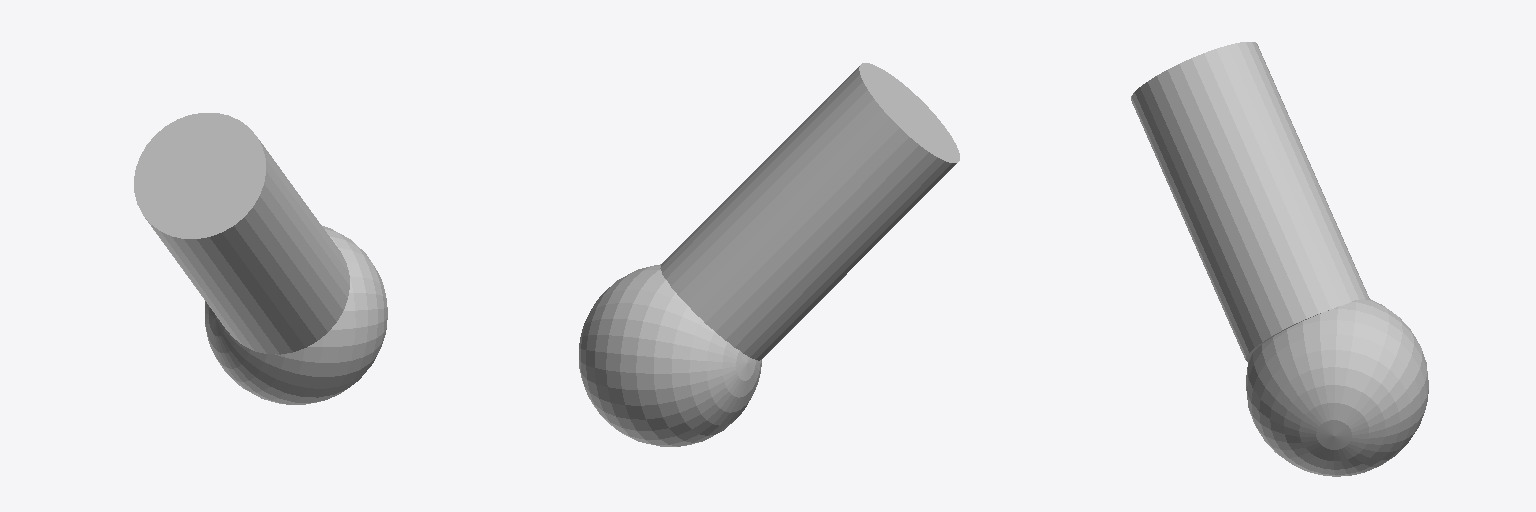
Rendered from rightArm.obj.
3 views of the same model, side by side, from view 1: azimuth 30°, elevation 25°; view 2: azimuth 150°, elevation 25°; view 3: azimuth 270°, elevation 25° (orthographic).
Parts seen in each view (by area): view 1: rightArm_ArmLeftUp.001; view 2: rightArm_ArmLeftUp.001; view 3: rightArm_ArmLeftUp.001.
Boxes of the visible parts, x1,y1,x2,y2 form: rightArm_ArmLeftUp.001: [134, 113, 387, 404]; rightArm_ArmLeftUp.001: [579, 63, 959, 446]; rightArm_ArmLeftUp.001: [1131, 42, 1428, 476].
Bounding box in the file's own units: 0.5454 × 0.6271 × 0.4752.